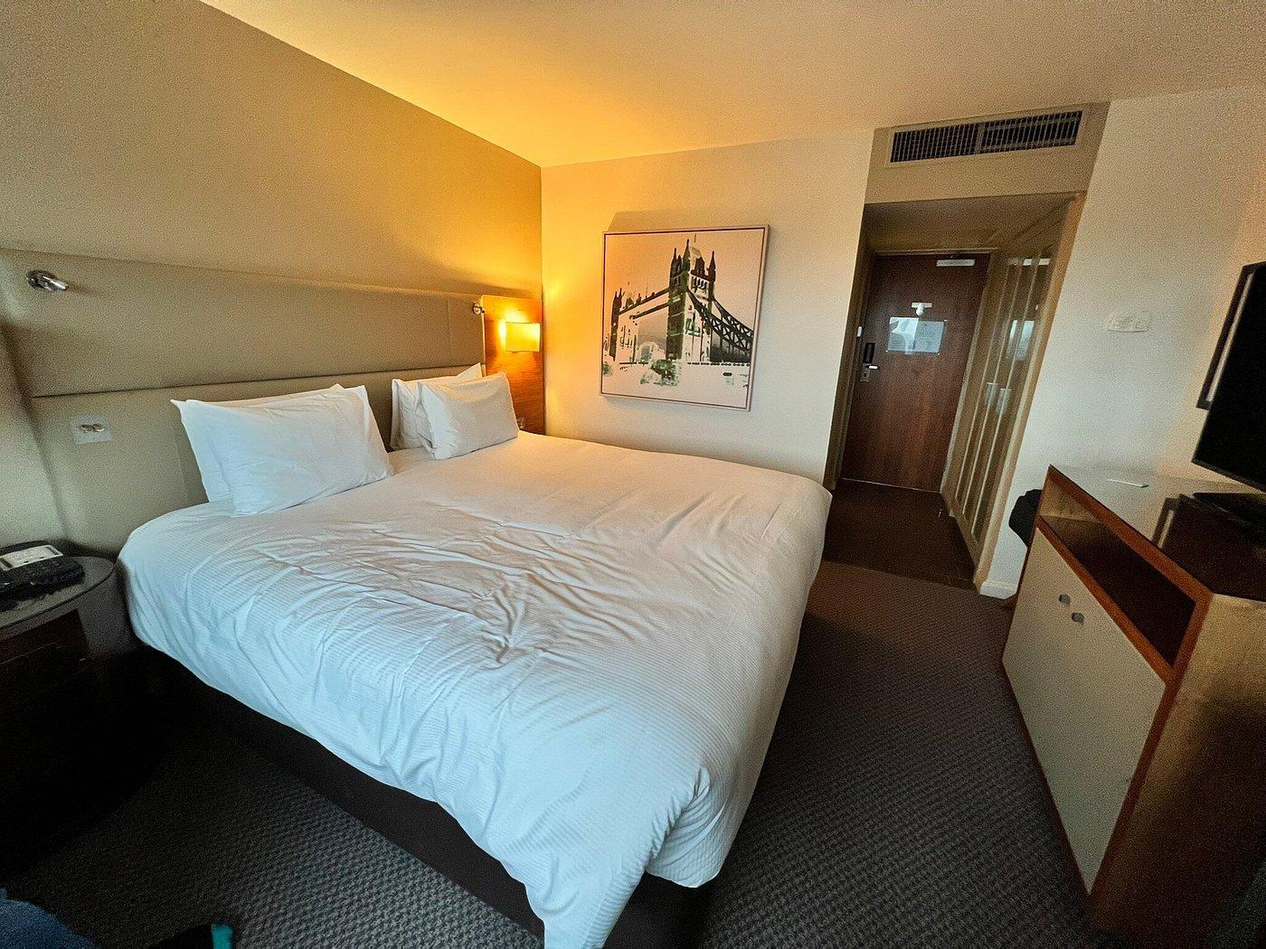messy_bed: (144, 371, 745, 896)
organised_pillow: (181, 384, 398, 514), (398, 380, 518, 447)
